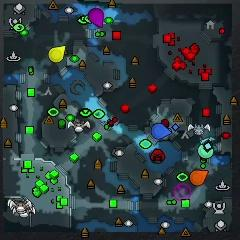p1: (152, 122, 171, 140)
p2: (198, 143, 214, 158)
p3: (89, 8, 105, 27)
p4: (50, 45, 65, 62)
p5: (190, 169, 208, 185)
x3: (200, 136, 218, 151)
